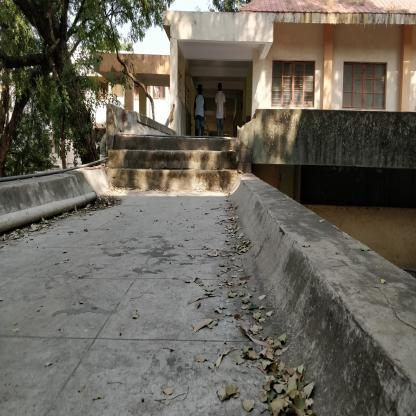stairs: (115, 135, 234, 195)
